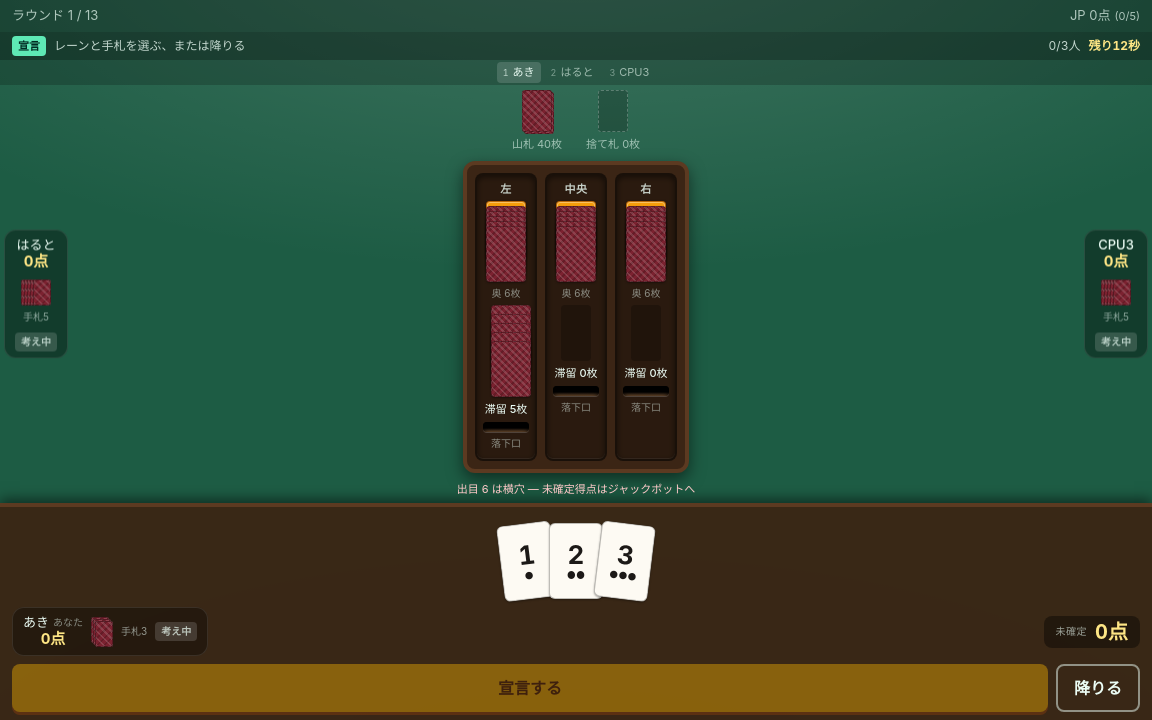
Test: 目標値の提示（docs/spec.md §3） › どのレーンも同じ危険度なら、レーンごとの印は出さない（#67）
Step 1. Click the button named "1コイン札" → click(527, 561), box [496,520,559,602]
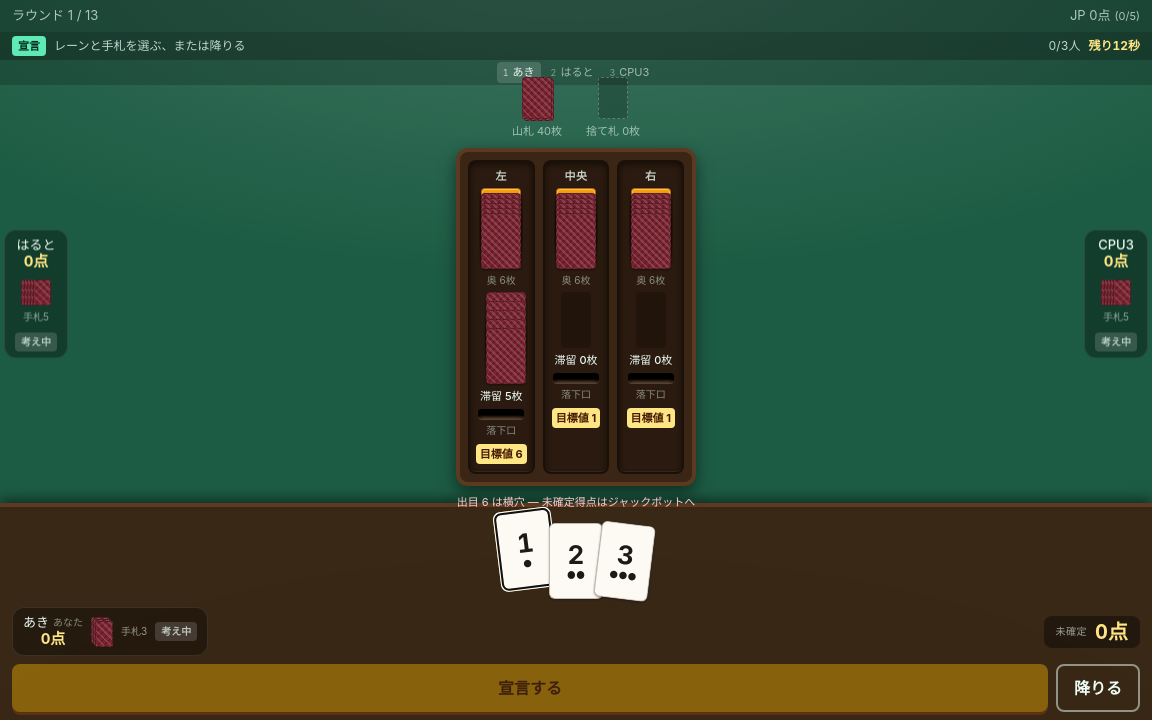
Result: the text "目標値 6" is shown at [480,446,523,462]
